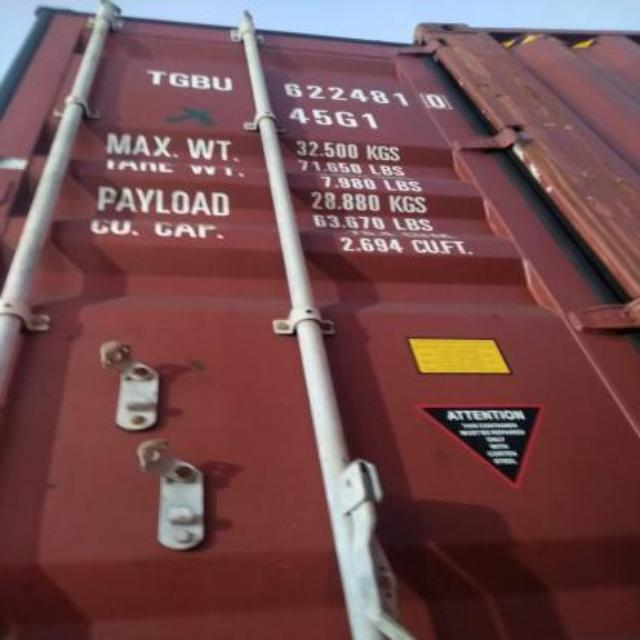0: (417, 89, 453, 107)
1: (391, 80, 414, 110)
2: (326, 77, 349, 103), (304, 75, 324, 102)
4: (350, 78, 370, 104)
6: (278, 75, 302, 101)
8: (370, 75, 388, 107)
B: (192, 67, 212, 97)
G: (168, 62, 192, 92)
T: (144, 62, 166, 88)
U: (212, 68, 238, 94)
